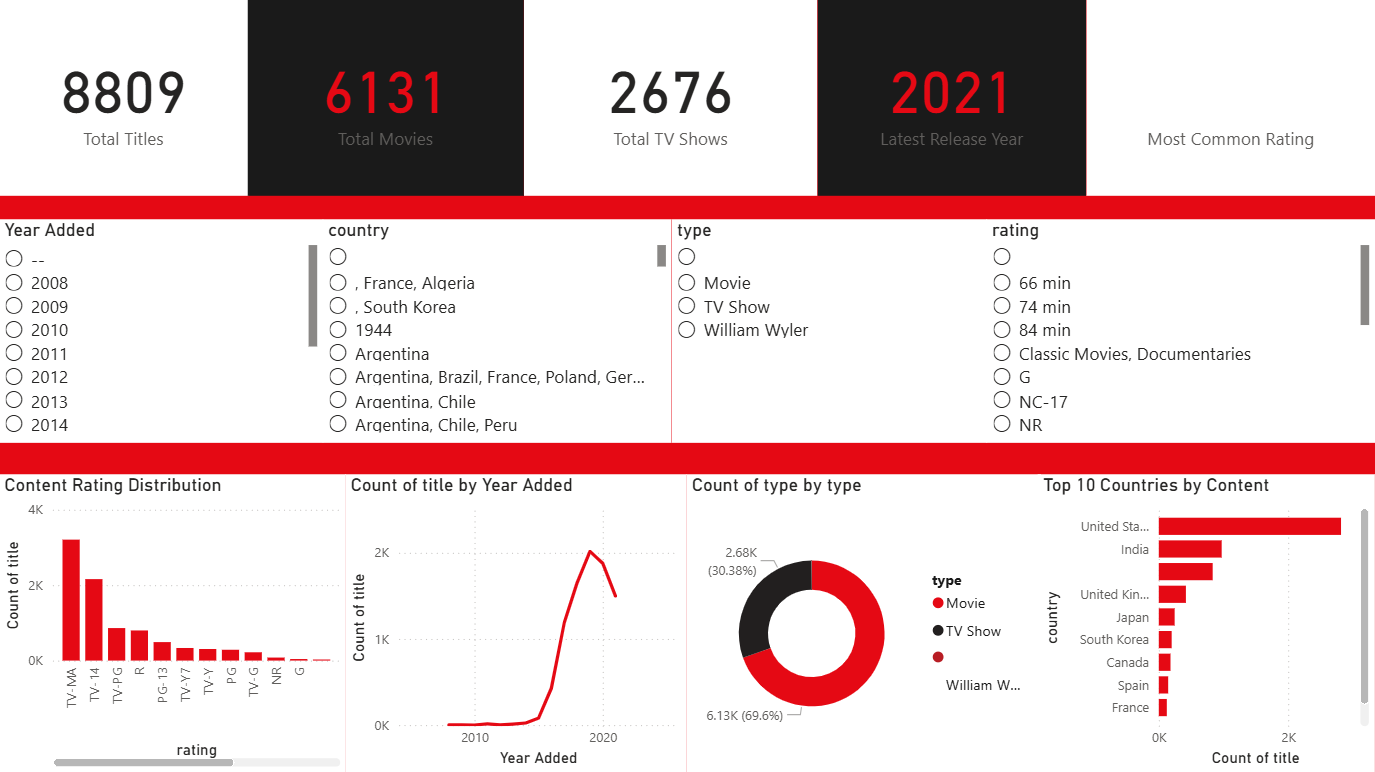

Layout of this report page (visuals, bound fields, positions):
{"tool":"powerbi","page":{"name":"Page 1","canvas":[1280,720],"ordinal":0},"visuals":[{"type":"card","fields":{"Values":["netflix_titles.Total Titles"]},"box":[0,0,232,184],"z":0},{"type":"card","fields":{"Values":["netflix_titles.Total Movies"]},"box":[231.9,0,256.6,183.9],"z":1000},{"type":"card","fields":{"Values":["netflix_titles.Total TV Shows"]},"box":[488.5,0,273.1,183.9],"z":2000},{"type":"card","fields":{"Values":["netflix_titles.Latest Release Year"]},"box":[761.6,0,249.7,183.9],"z":3000},{"type":"card","fields":{"Values":["netflix_titles.Most Common Rating"]},"box":[1011.3,0,269,183.9],"z":4000},{"type":"donutChart","fields":{"Category":["netflix_titles.type"],"Y":["CountNonNull(netflix_titles.type)"]},"box":[640,442.7,329.3,277.3],"z":5000},{"type":"lineChart","fields":{"Category":["netflix_titles.Year Added"],"Y":["CountNonNull(netflix_titles.title)"]},"box":[322.7,442.7,317.3,277.3],"z":6000},{"type":"clusteredBarChart","title":"Top 10 Countries by Content","fields":{"Category":["netflix_titles.country"],"Y":["CountNonNull(netflix_titles.title)"]},"box":[966.7,442.7,313.3,277.3],"z":7000},{"type":"clusteredColumnChart","title":"Content Rating Distribution","fields":{"Category":["netflix_titles.rating"],"Y":["CountNonNull(netflix_titles.title)"]},"box":[0,442.7,322.7,277.3],"z":8000},{"type":"listSlicer","fields":{"Values":["netflix_titles.Year Added"]},"box":[0,205.3,301.3,208],"z":9000},{"type":"listSlicer","fields":{"Values":["netflix_titles.country"]},"box":[301.3,205.3,324,208],"z":10000},{"type":"listSlicer","fields":{"Values":["netflix_titles.type"]},"box":[625.3,205.3,293.3,208],"z":11000},{"type":"listSlicer","fields":{"Values":["netflix_titles.rating"]},"box":[918.7,205.3,361.3,208],"z":12000}]}

Visuals, with their boxes in screenshot pixels (x1, y1, x2, y2), scaled from the page's 1280x720 canvas onto the 1375x772 screenshot:
card - netflix_titles.Total Titles: <box>0,0,249,197</box>
card - netflix_titles.Total Movies: <box>249,0,525,197</box>
card - netflix_titles.Total TV Shows: <box>525,0,818,197</box>
card - netflix_titles.Latest Release Year: <box>818,0,1086,197</box>
card - netflix_titles.Most Common Rating: <box>1086,0,1374,197</box>
donutChart - netflix_titles.type x CountNonNull(netflix_titles.type): <box>688,475,1041,771</box>
lineChart - netflix_titles.Year Added x CountNonNull(netflix_titles.title): <box>347,475,688,771</box>
"Top 10 Countries by Content" clusteredBarChart: <box>1038,475,1374,771</box>
"Content Rating Distribution" clusteredColumnChart: <box>0,475,347,771</box>
listSlicer - netflix_titles.Year Added: <box>0,220,324,443</box>
listSlicer - netflix_titles.country: <box>324,220,672,443</box>
listSlicer - netflix_titles.type: <box>672,220,987,443</box>
listSlicer - netflix_titles.rating: <box>987,220,1374,443</box>
